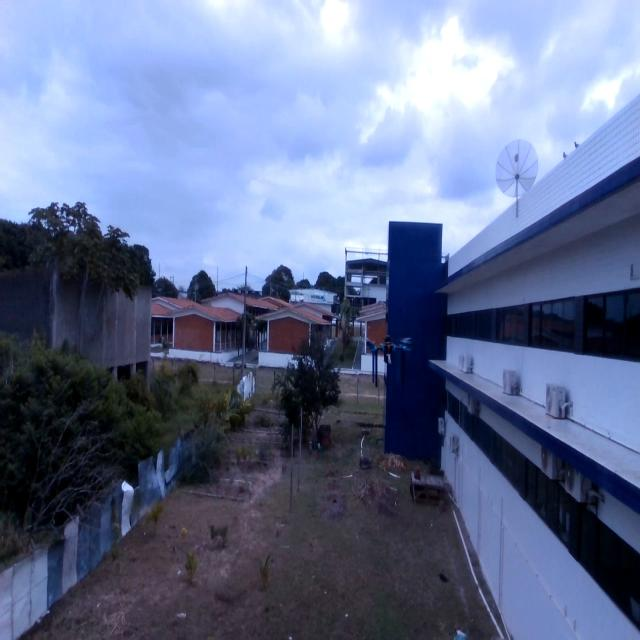-uav-: (348, 324, 427, 390)
